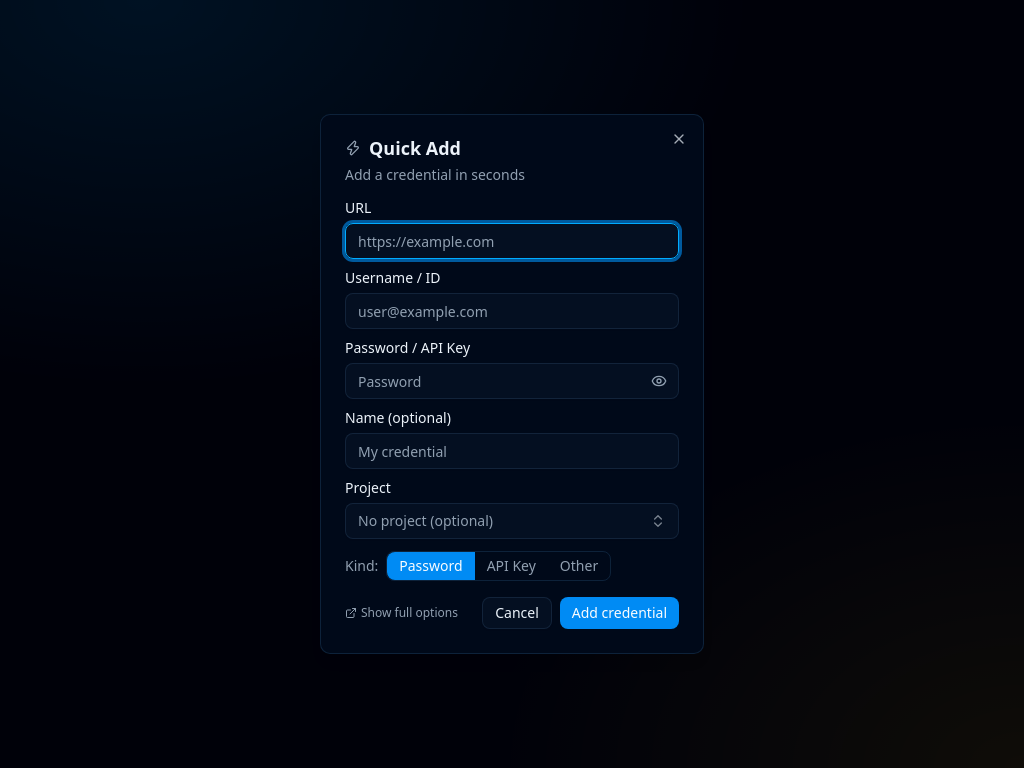
QuickAddDialog › 3. URL 입력 시 issuer 자동 감지 메시지를 표시한다
Expected: the heading "Quick Add" is shown, [369,139,461,157]
Step 1. Type "https://github.com/settings/tokens" into the field with placeholder "https://example.com" → (512, 241), box [345,223,679,259]
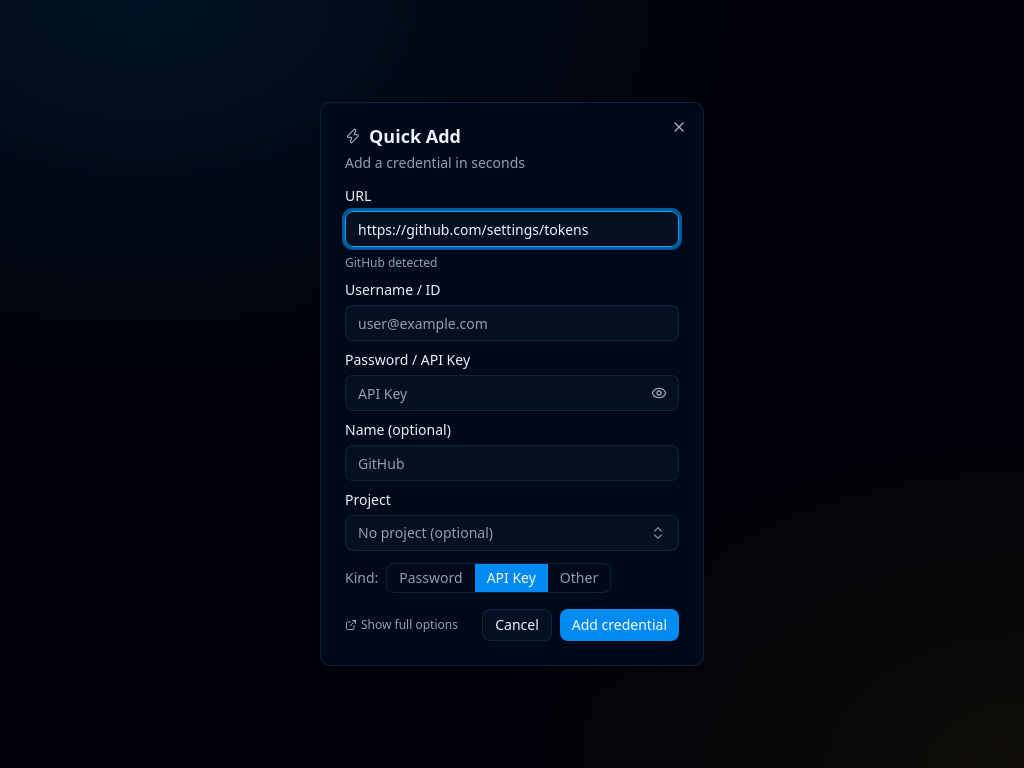
Now the text with test id "issuer-detected" reads "GitHub detected", box [345,254,438,271]
